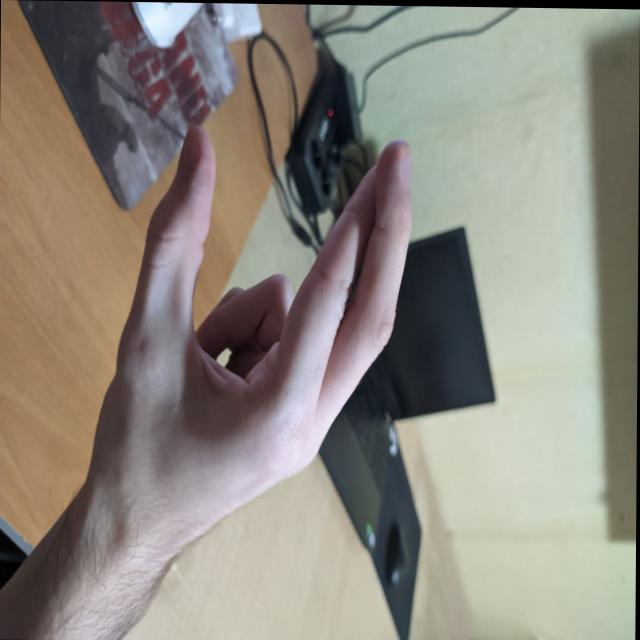ia: (78, 125, 423, 559)
